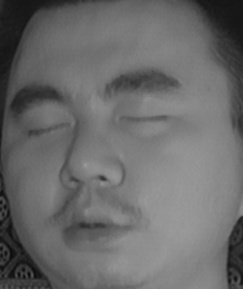blink: (117, 98, 171, 138), (22, 110, 73, 145)
mouth: (49, 199, 137, 257)
